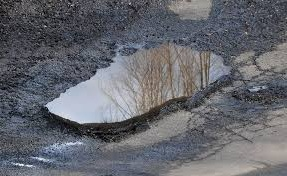pothole: (13, 49, 254, 133), (226, 76, 283, 101), (168, 0, 212, 22)
